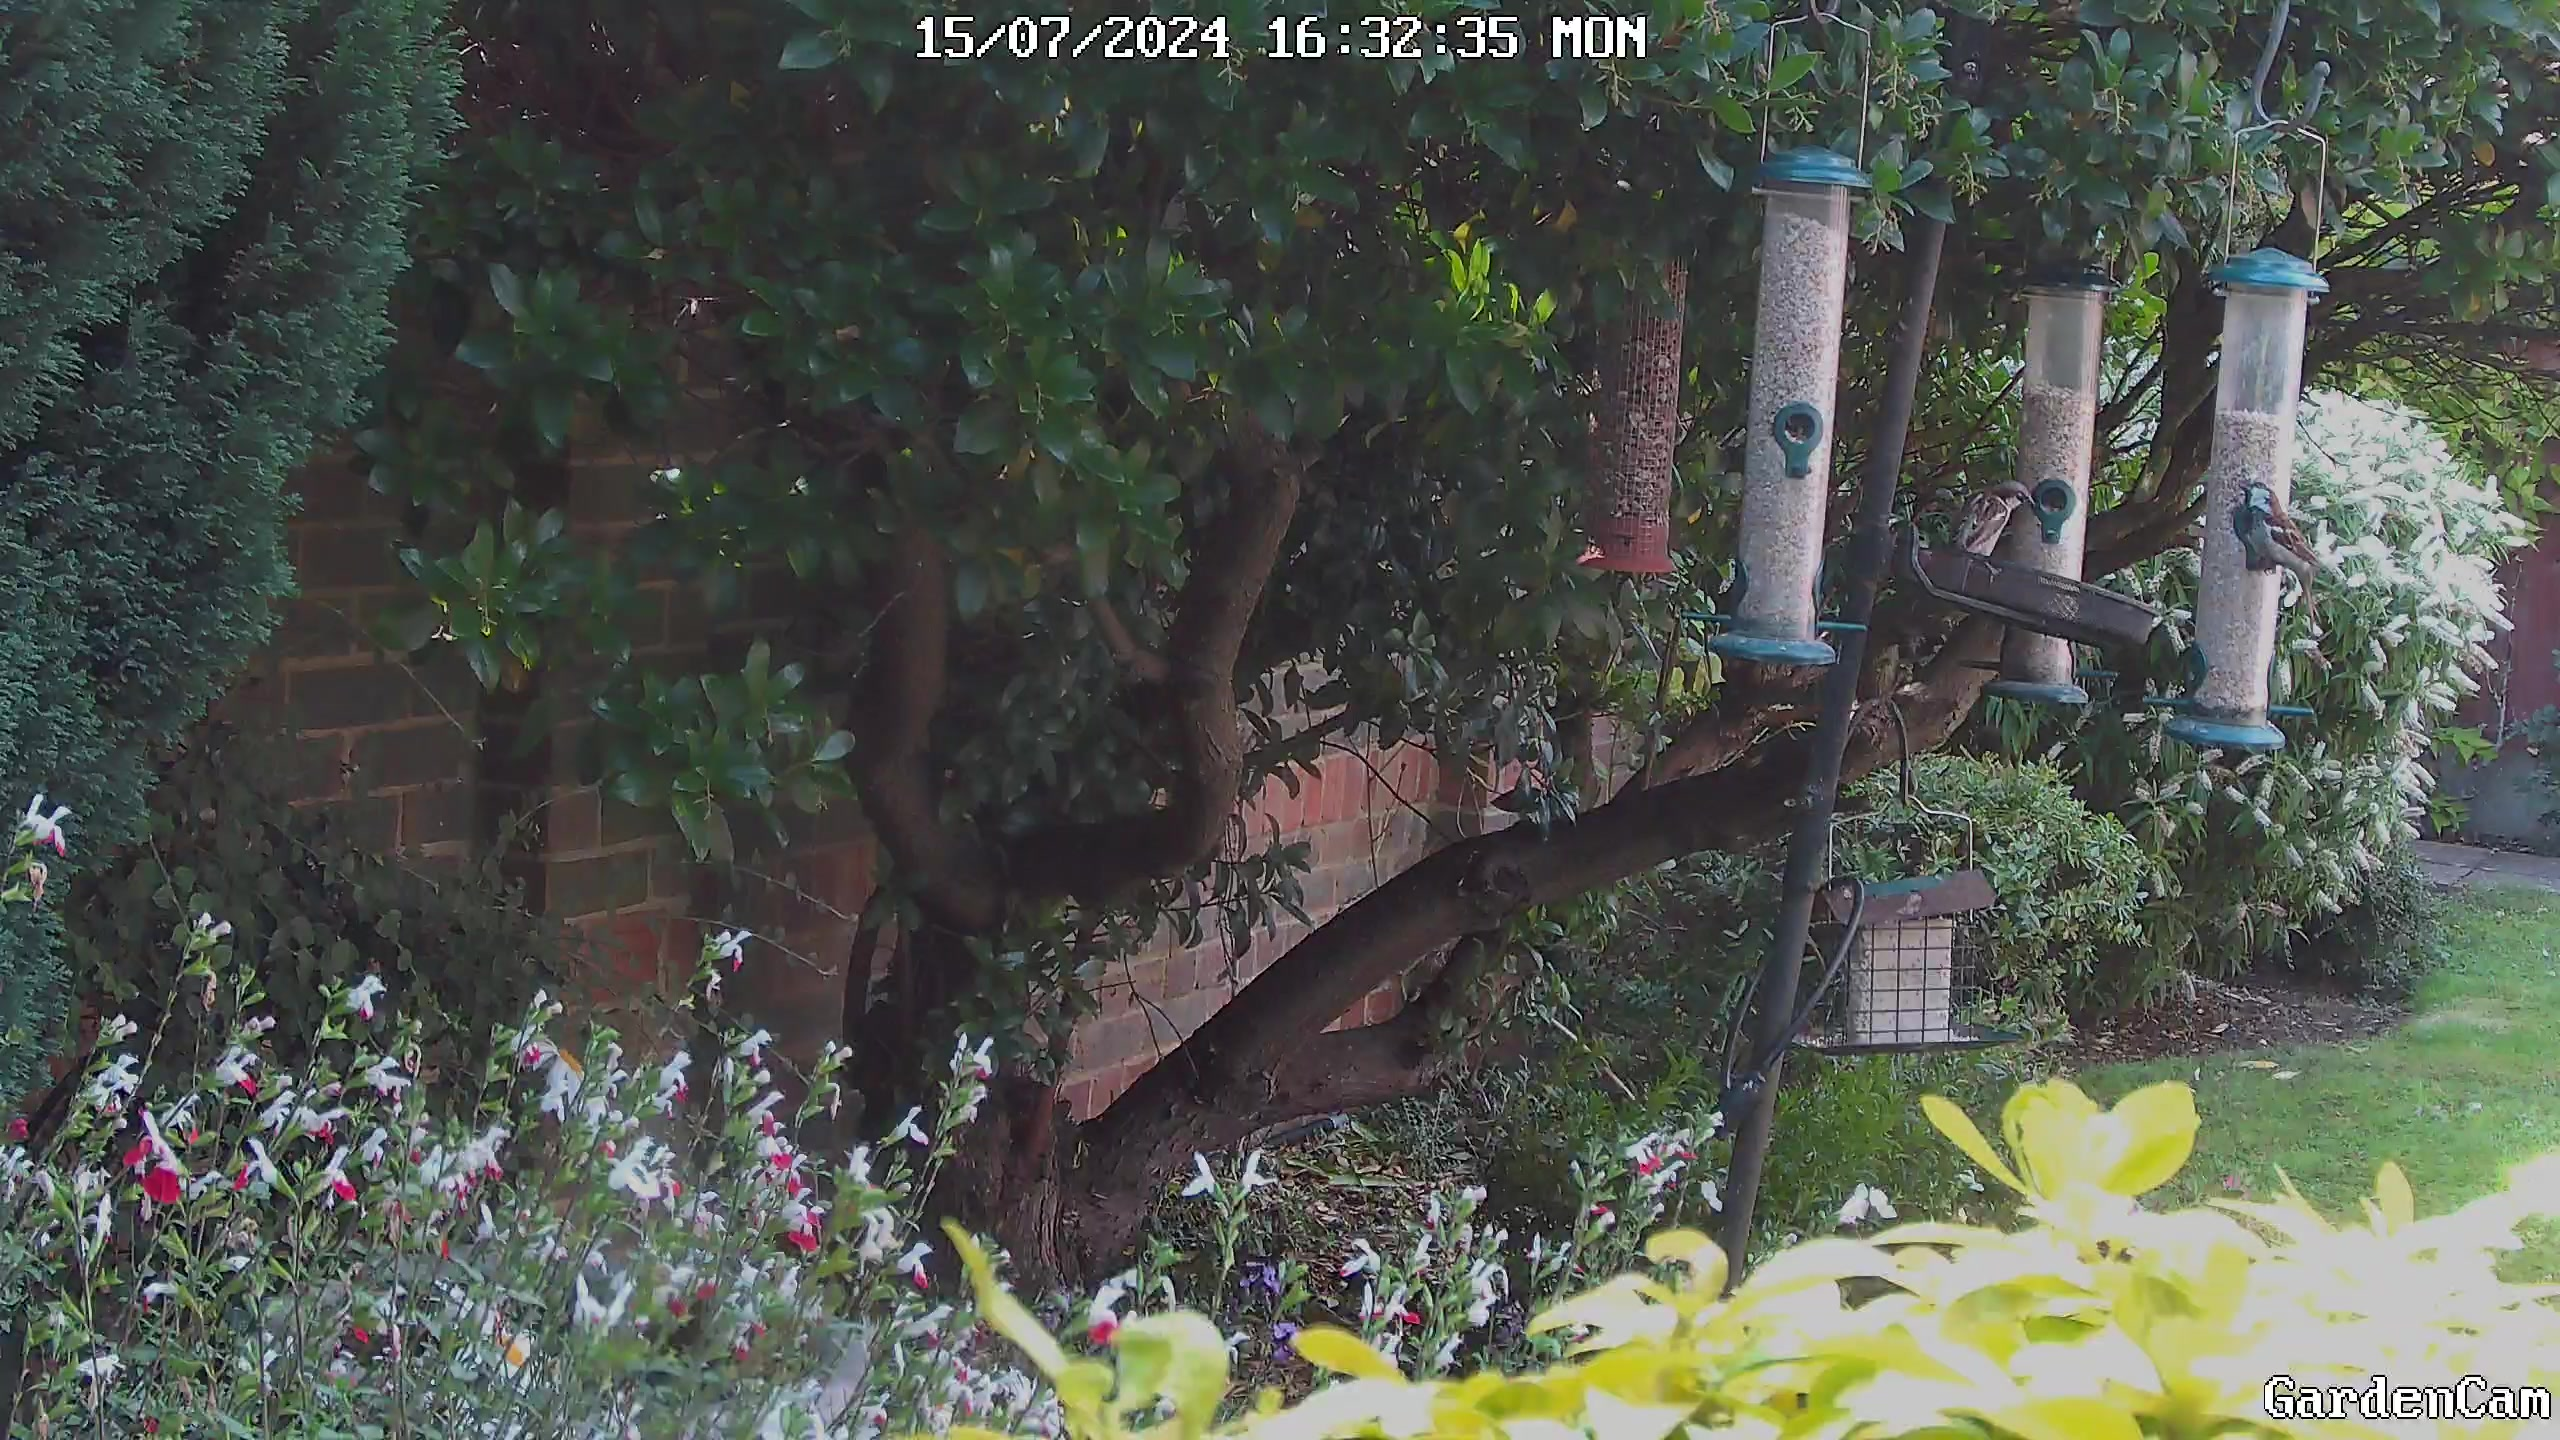House_Sparrow: (2224, 466, 2363, 610), (1931, 473, 2050, 584)
